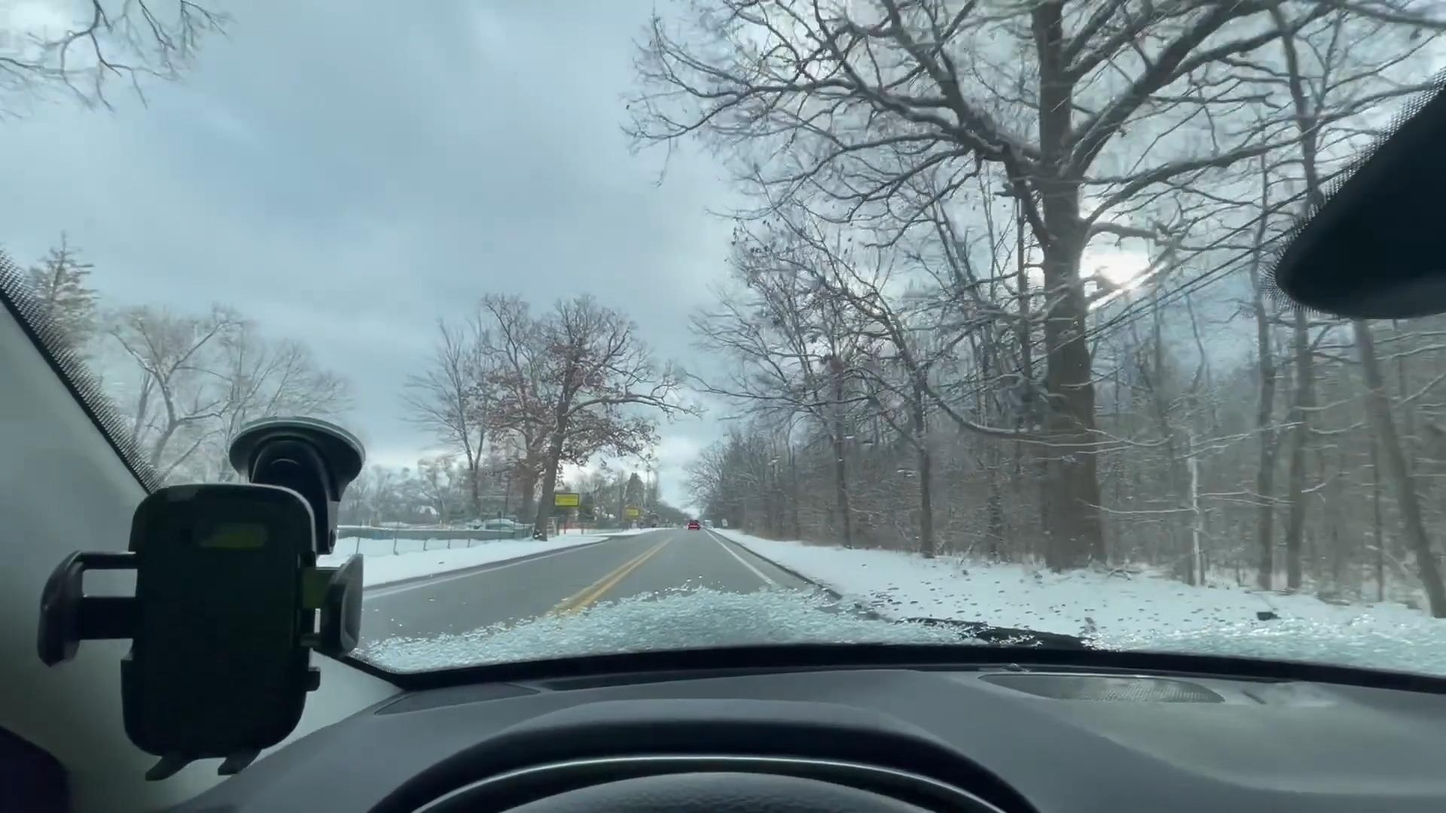Ice: (364, 525, 844, 644)
Snow: (721, 528, 1445, 649), (337, 528, 645, 589)
